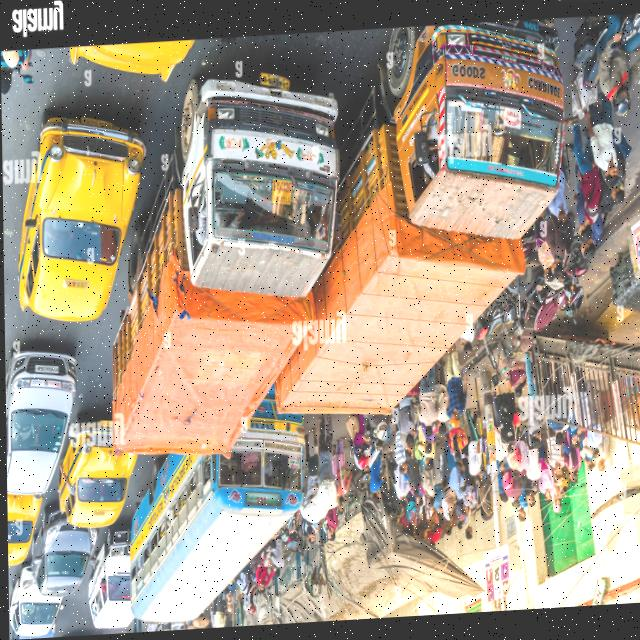plate: (256, 70, 293, 97), (79, 113, 114, 133), (31, 361, 60, 377), (98, 419, 112, 429)
